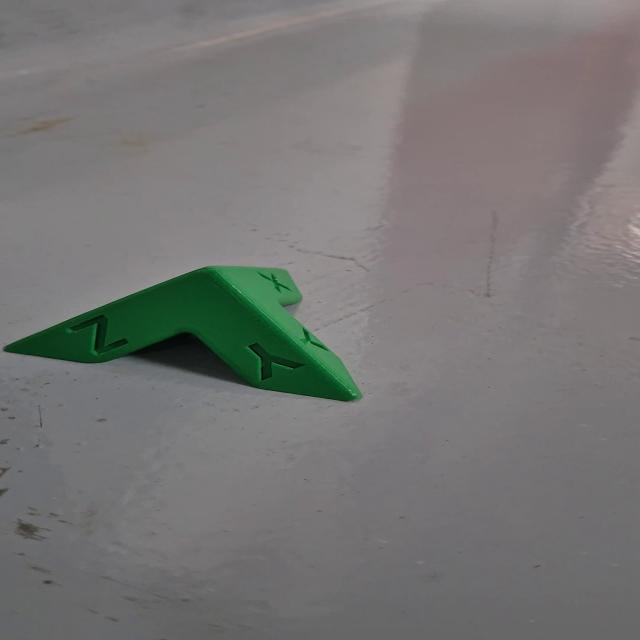objects: (1, 262, 369, 408)
